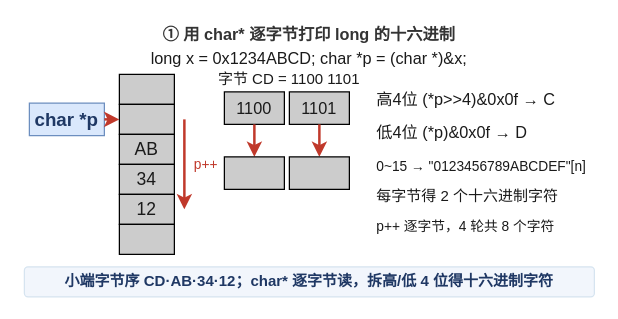
This 618x319 diagram has some shape labels left out. Here are the shapes that lost their labels. From the top down, the centre of each, then its label:
At point (146, 118): "CD".
At point (253, 172): "'C'".
At point (318, 172): "'D'".
